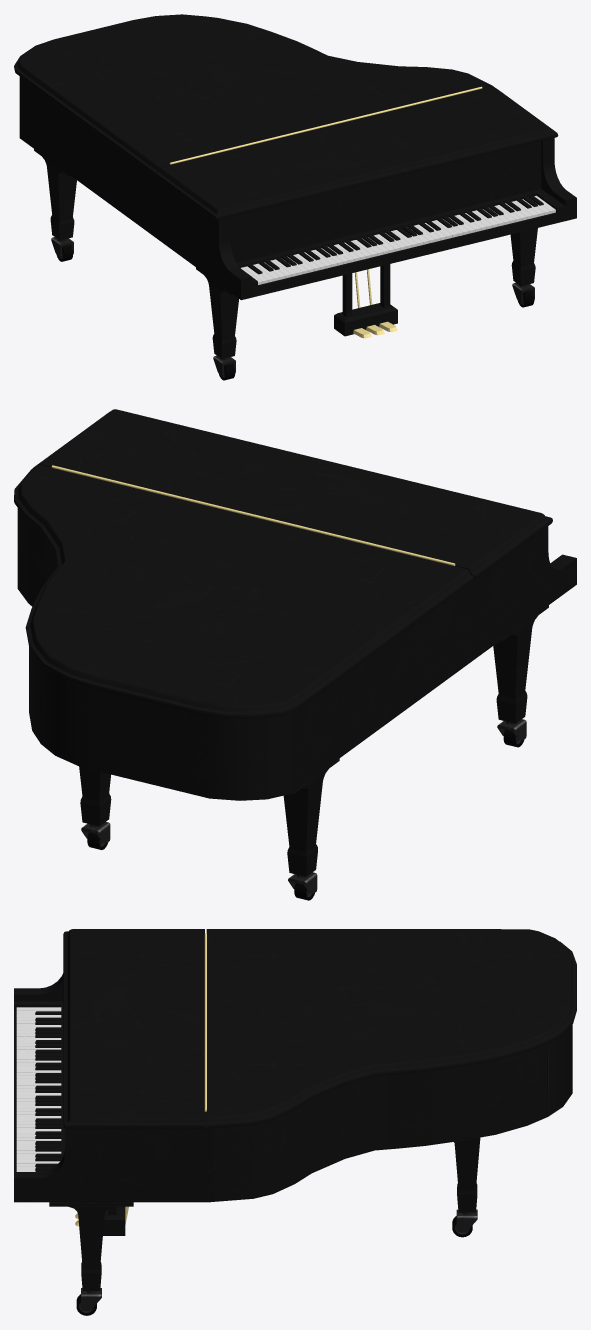
Rendered from obj_grand_piano_a007e6.glb.
3 views of the same model, one above another, from view 1: azimuth 30°, elevation 25°; view 2: azimuth 150°, elevation 25°; view 3: azimuth 270°, elevation 25° (orthographic). The views are drawn at different scales.
Parts seen in each view (by area): view 1: obj_grand_piano_a007e6; view 2: obj_grand_piano_a007e6; view 3: obj_grand_piano_a007e6.
Part boxes in pixels (x1,y1,x2,y2): obj_grand_piano_a007e6: [14, 14, 576, 380]; obj_grand_piano_a007e6: [14, 409, 576, 900]; obj_grand_piano_a007e6: [14, 929, 576, 1315].
Bounding box in the file's own units: 2.6 × 1.3 × 3.19.
1 material, 1 textured.
